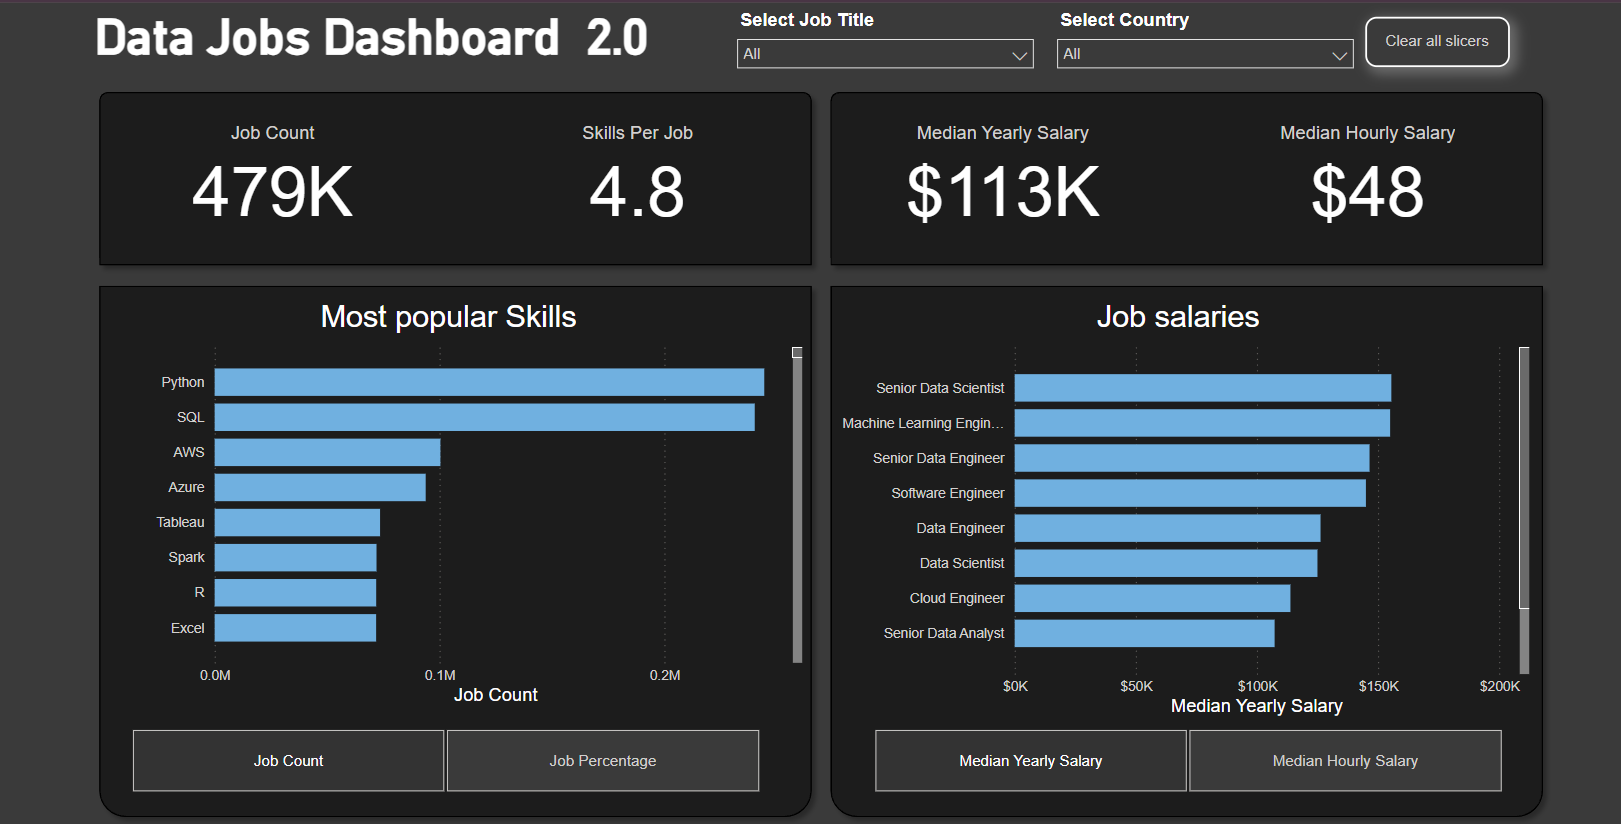

What the dashboard file says about the page in this screenshot:
{"tool":"powerbi","page":{"name":"Data Jobs Dashboard","canvas":[1280,720],"ordinal":0},"visuals":[{"type":"group","id":"g1","title":"Background Shapes","box":[0,78.3,1280.3,642],"z":0},{"type":"shape","box":[0,78.3,639.5,118.6],"z":0,"group":"g1"},{"type":"cardVisual","fields":{"Data":["Median(job_postings_flat.salary_year_avg)"]},"box":[640.2,79.5,320.1,117.4],"z":0,"group":"g2"},{"type":"textbox","box":[0,0,463.9,79.5],"z":1000,"group":"g3"},{"type":"shape","box":[640.8,79.5,639.5,118.6],"z":1000,"group":"g1"},{"type":"cardVisual","fields":{"Data":["Median(job_postings_flat.salary_hour_avg)"]},"box":[960.2,79.5,320.1,117.4],"z":1000,"group":"g2"},{"type":"lineChart","title":"Jobs Over Time","fields":{"Category":["job_postings_flat.job_posted_date.Variation.Date Hierarchy.Year","job_postings_flat.job_posted_date.Variation.Date Hierarchy.Quarter","job_postings_flat.job_posted_date.Variation.Date Hierarchy.Month","job_postings_flat.job_posted_date.Variation.Date Hierarchy.Day"],"Y":["CountNonNull(job_postings_flat.job_title_short)"]},"box":[20.8,217.7,598,217.7],"z":1000},{"type":"cardVisual","fields":{"Data":["job_postings_flat.Median of salary_year_avg star rating"]},"box":[320.5,79.5,319.2,118.6],"z":2000,"group":"g2"},{"type":"shape","box":[0,196.9,640.8,259.2],"z":2000,"group":"g1"},{"type":"barChart","title":"What is highest paying job in data?","fields":{"Category":["job_postings_flat.job_title_short"],"Y":["CountNonNull(job_postings_flat.job_title_short)"]},"box":[22,464.7,598,247],"z":2000},{"type":"slicer","fields":{"Values":["job_postings_flat.job_title_short"]},"box":[541.5,5.5,342,68.5],"z":3000,"group":"g3"},{"type":"group","id":"g2","title":"Cards Group","box":[0,79.5,1280.3,118.6],"z":3000},{"type":"cardVisual","fields":{"Data":["CountNonNull(job_postings_flat.job_title_short)"]},"box":[0,79.5,320.1,117.4],"z":3000,"group":"g2"},{"type":"shape","box":[0,456.2,640.8,264.1],"z":3000,"group":"g1"},{"type":"shape","box":[639.5,198.1,640.8,259.2],"z":4000,"group":"g1"},{"type":"scatterChart","title":"Hourly vs Yearly Salary","fields":{"Y":["Median(job_postings_flat.salary_hour_avg)"],"X":["Median(job_postings_flat.salary_year_avg)"],"Series":["job_postings_flat.job_title_short"]},"box":[670.1,217.7,579.6,217.7],"z":4000},{"type":"shape","box":[639.5,456.2,640.8,264.1],"z":5000,"group":"g1"},{"type":"pivotTable","fields":{"Rows":["job_postings_flat.job_title_short","job_postings_flat.job_posted_date.Variation.Date Hierarchy.Quarter"],"Values":["CountNonNull(job_postings_flat.job_title_short)","Median(job_postings_flat.salary_year_avg)","Median(job_postings_flat.salary_hour_avg)","SparklineData(CountNonNull(job_postings_flat.job_title_short)_[job_postings_flat.job_posted_date.Variation.Date Hierarch"]},"box":[695.8,464.7,528.3,247],"z":5000},{"type":"group","id":"g3","title":"Page Top ","box":[0,0,1224.1,79.5],"z":6000},{"type":"actionButton","box":[904.9,7.7,319.2,62.4],"z":7001,"group":"g3"}]}

Visuals, with their boxes on the page's 1280x720 design canvas (x1, y1, x2, y2). These are canvas units, not pixel positions in the 1621x824 screenshot, which may show the page scaled, cropped or inside an application window:
"Background Shapes" group: [0, 78, 1280, 720]
shape: [0, 78, 640, 197]
cardVisual - Median(job_postings_flat.salary_year_avg): [640, 80, 960, 197]
textbox: [0, 0, 464, 80]
shape: [641, 80, 1280, 198]
cardVisual - Median(job_postings_flat.salary_hour_avg): [960, 80, 1280, 197]
"Jobs Over Time" lineChart: [21, 218, 619, 435]
cardVisual - job_postings_flat.Median of salary_year_avg star rating: [320, 80, 640, 198]
shape: [0, 197, 641, 456]
"What is highest paying job in data?" barChart: [22, 465, 620, 712]
slicer - job_postings_flat.job_title_short: [542, 6, 884, 74]
"Cards Group" group: [0, 80, 1280, 198]
cardVisual - CountNonNull(job_postings_flat.job_title_short): [0, 80, 320, 197]
shape: [0, 456, 641, 720]
shape: [640, 198, 1280, 457]
"Hourly vs Yearly Salary" scatterChart: [670, 218, 1250, 435]
shape: [640, 456, 1280, 720]
pivotTable - job_postings_flat.job_title_short x job_postings_flat.job_posted_date.Variation.Date Hierarchy.Quarter: [696, 465, 1224, 712]
"Page Top " group: [0, 0, 1224, 80]
actionButton: [905, 8, 1224, 70]
